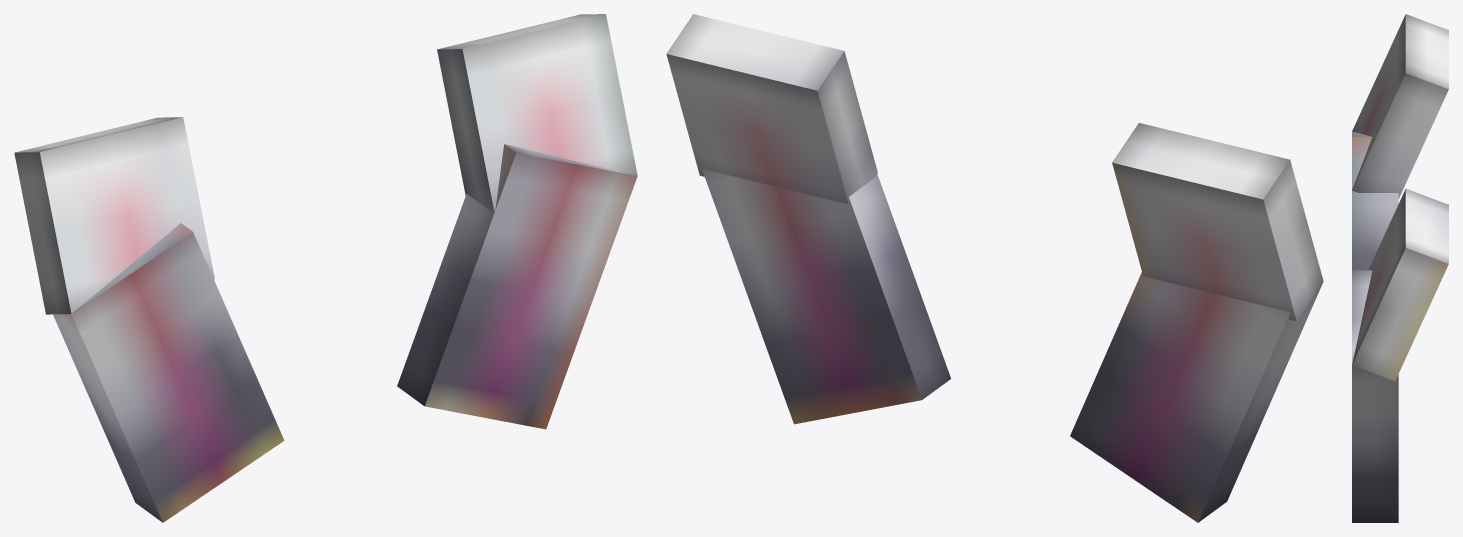
File: bunnyears.obj
The picture shows the model from 3 angles, left to right: view 1: azimuth 30°, elevation 25°; view 2: azimuth 150°, elevation 25°; view 3: azimuth 270°, elevation 25°; orthographic projection. The views are drawn at different scales.
Visible parts, largest first — view 1: bunnyears_part_3, bunnyears_part_0, bunnyears_part_1, bunnyears_part_2; view 2: bunnyears_part_3, bunnyears_part_0, bunnyears_part_1, bunnyears_part_2; view 3: bunnyears_part_2, bunnyears_part_1, bunnyears_part_3, bunnyears_part_0.
Boxes of the visible parts, left/top/right/bottom form: bunnyears_part_3: left=397, top=144, right=637, bottom=429; bunnyears_part_0: left=53, top=223, right=284, bottom=522; bunnyears_part_1: left=14, top=117, right=214, bottom=314; bunnyears_part_2: left=437, top=14, right=637, bottom=210; bunnyears_part_3: left=702, top=168, right=950, bottom=424; bunnyears_part_0: left=1070, top=272, right=1323, bottom=522; bunnyears_part_1: left=1112, top=123, right=1323, bottom=321; bunnyears_part_2: left=666, top=14, right=877, bottom=204; bunnyears_part_2: left=1352, top=188, right=1448, bottom=380; bunnyears_part_1: left=1352, top=14, right=1448, bottom=198; bunnyears_part_3: left=1352, top=270, right=1398, bottom=522; bunnyears_part_0: left=1352, top=131, right=1398, bottom=270.
Size of the model in its own units: 0.7399 by 0.4619 by 0.1295.
Materials: 1 (1 with a texture image).
